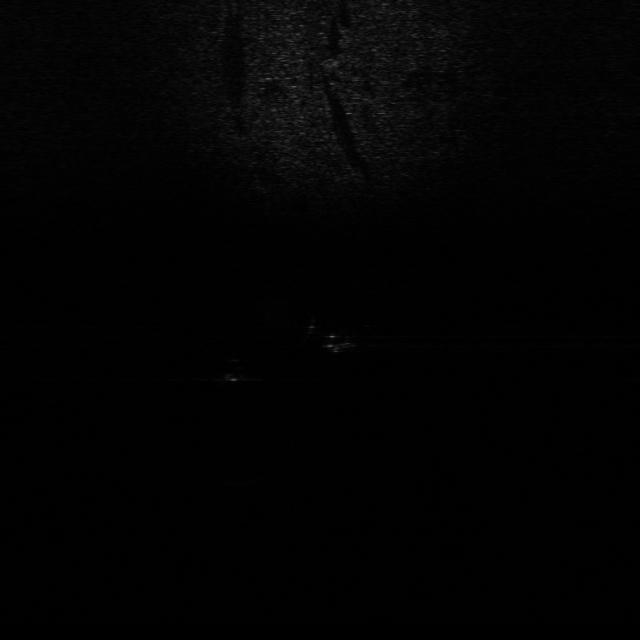ball: (216, 355, 252, 383)
circle cage: (222, 464, 269, 488)
human body: (298, 312, 368, 354)
